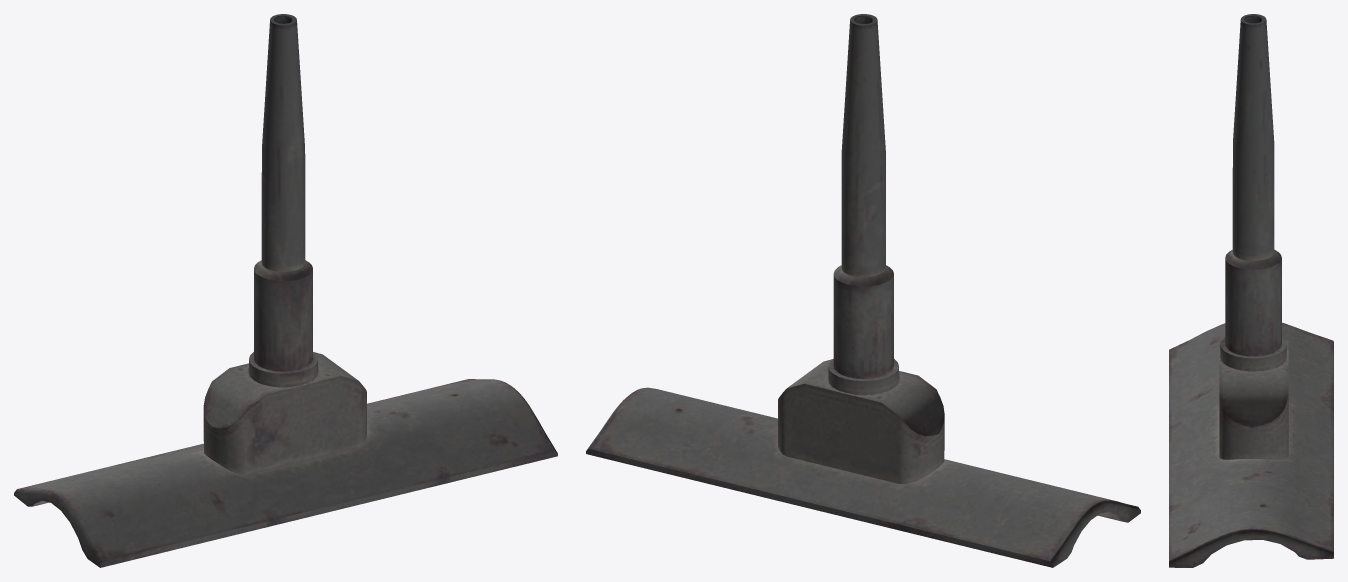
The model's file is Gun_02.glb.
The picture shows the model from 3 angles, left to right: view 1: azimuth 30°, elevation 25°; view 2: azimuth 150°, elevation 25°; view 3: azimuth 270°, elevation 25°; orthographic projection. The views are drawn at different scales.
Visible parts, largest first — view 1: set_0_group_0; view 2: set_0_group_0; view 3: set_0_group_0.
Boxes of the visible parts, x1=… form: set_0_group_0: x1=14, y1=14, x2=557, y2=567; set_0_group_0: x1=586, y1=14, x2=1140, y2=567; set_0_group_0: x1=1169, y1=14, x2=1333, y2=567.
Size of the model in its own units: 1.11 by 1.07 by 0.3635.
Materials: 1 (1 with a texture image).
